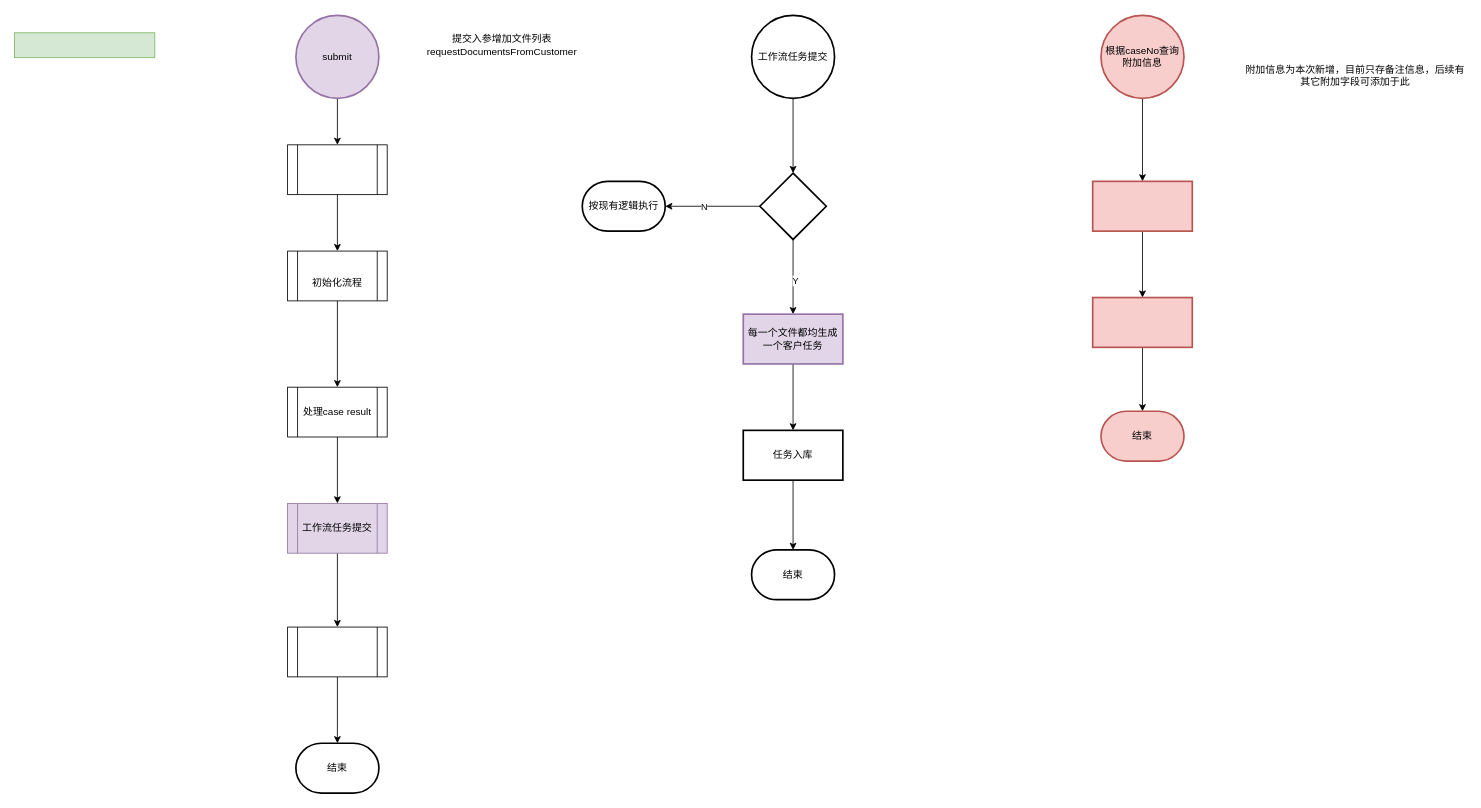
Image size: 1481x808. Some labels were removed from this diagram. The centre of each missing label's shape, as x and y in pixels:
"是pec" goes at (793,206).
"更新审批数据" goes at (337,651).
"校验" goes at (337,169).
"根据caseNo查询审批数据中的附加信息数据" goes at (1142,206).
"紫色代表本次变动点 红色代表本次新增" goes at (84,45).
"若存在附加信息，则取备注字段返回，否则返回空" goes at (1142,322).
